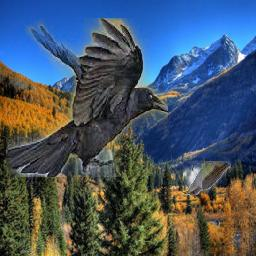Crow: (6, 19, 168, 178)
Cuckoo: (183, 161, 231, 195)
